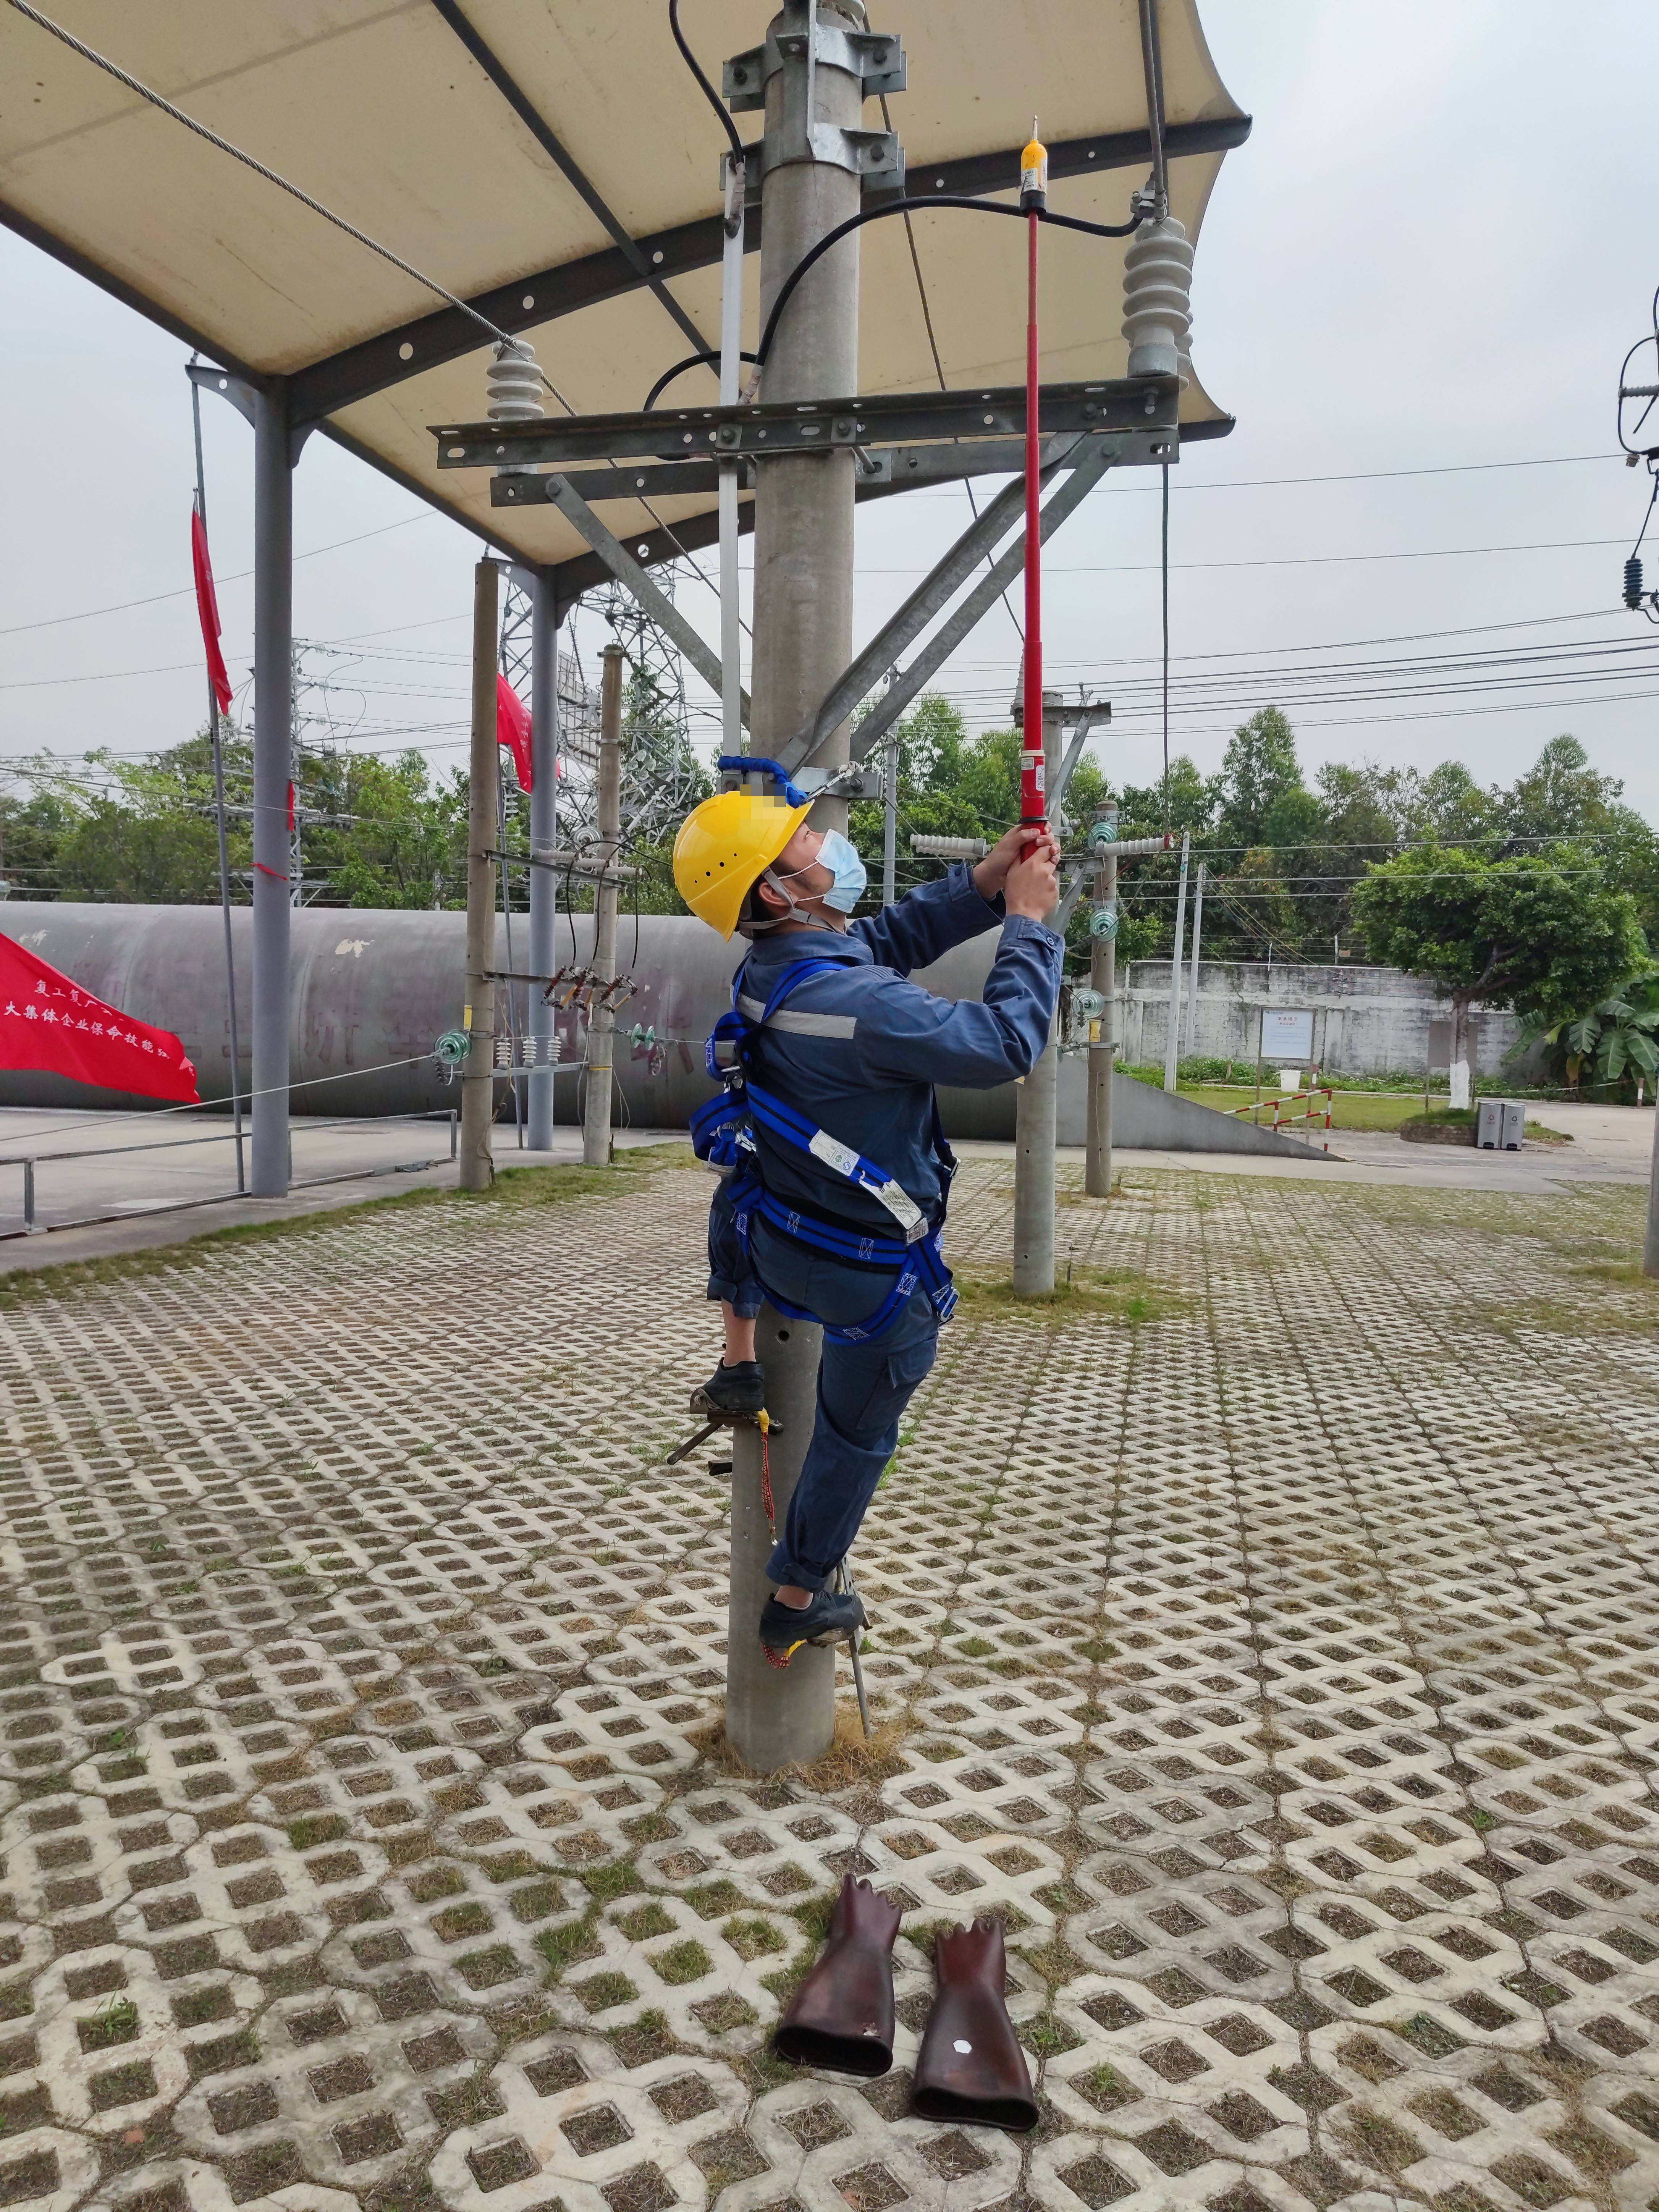downsuit: (702, 1207, 927, 1578)
upsuit: (732, 956, 962, 1228)
wrongbottom: (702, 1251, 769, 1383)
